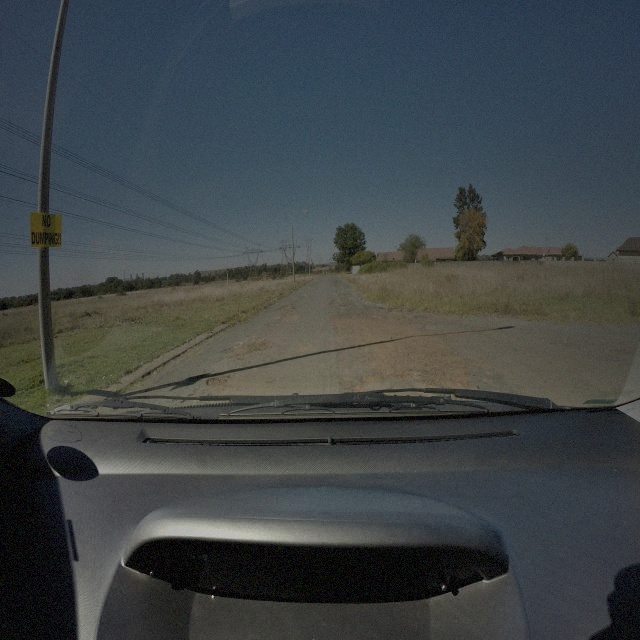pothole: (222, 336, 270, 358), (203, 372, 233, 388), (360, 371, 384, 381), (278, 302, 294, 312), (329, 299, 340, 309)
